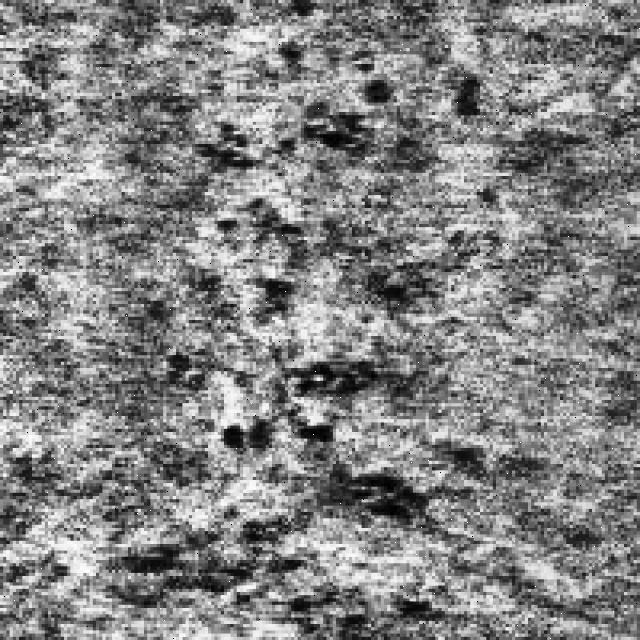Crazing: (198, 73, 458, 516)
